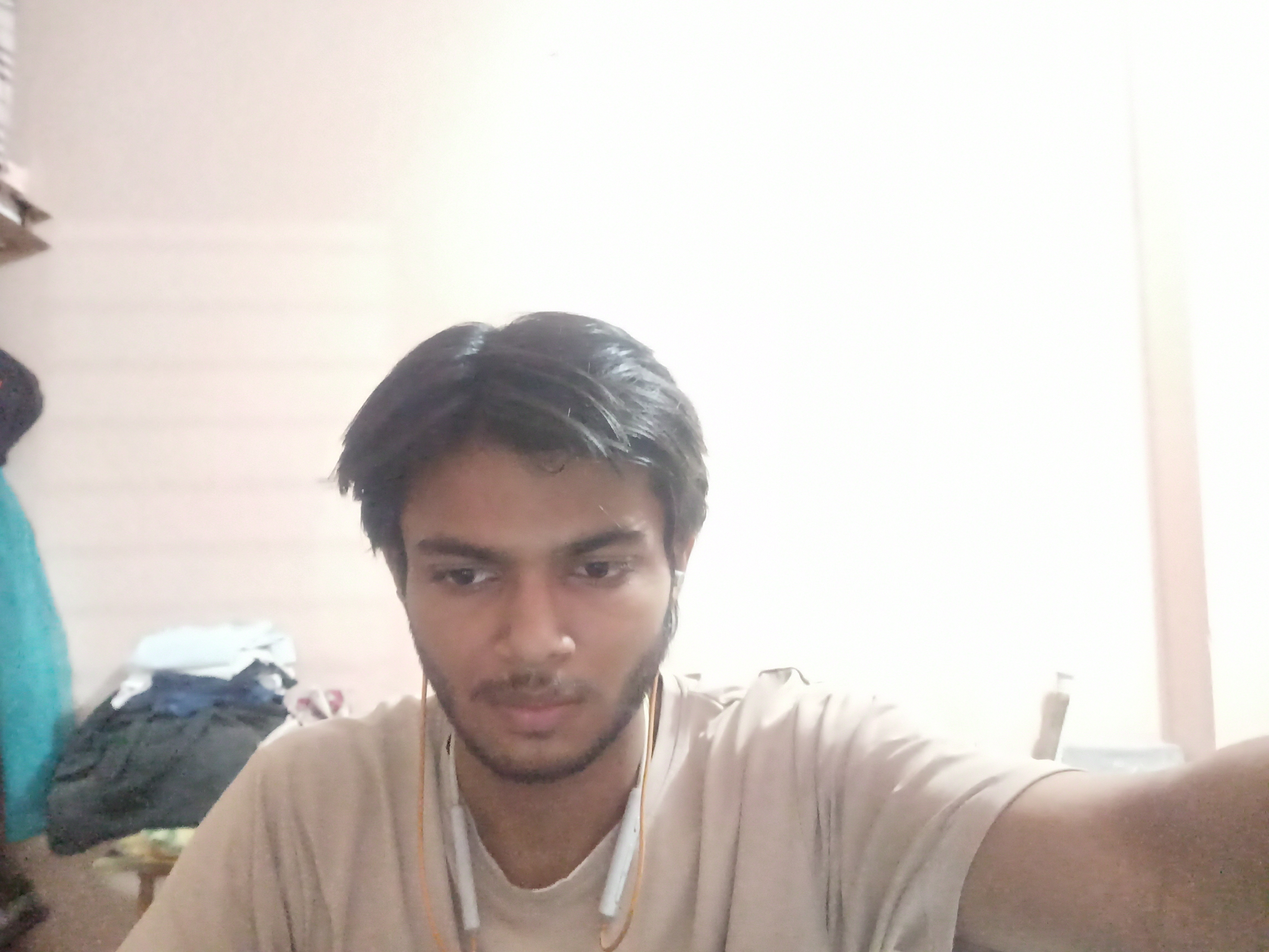Focused: (342, 362, 751, 805)
